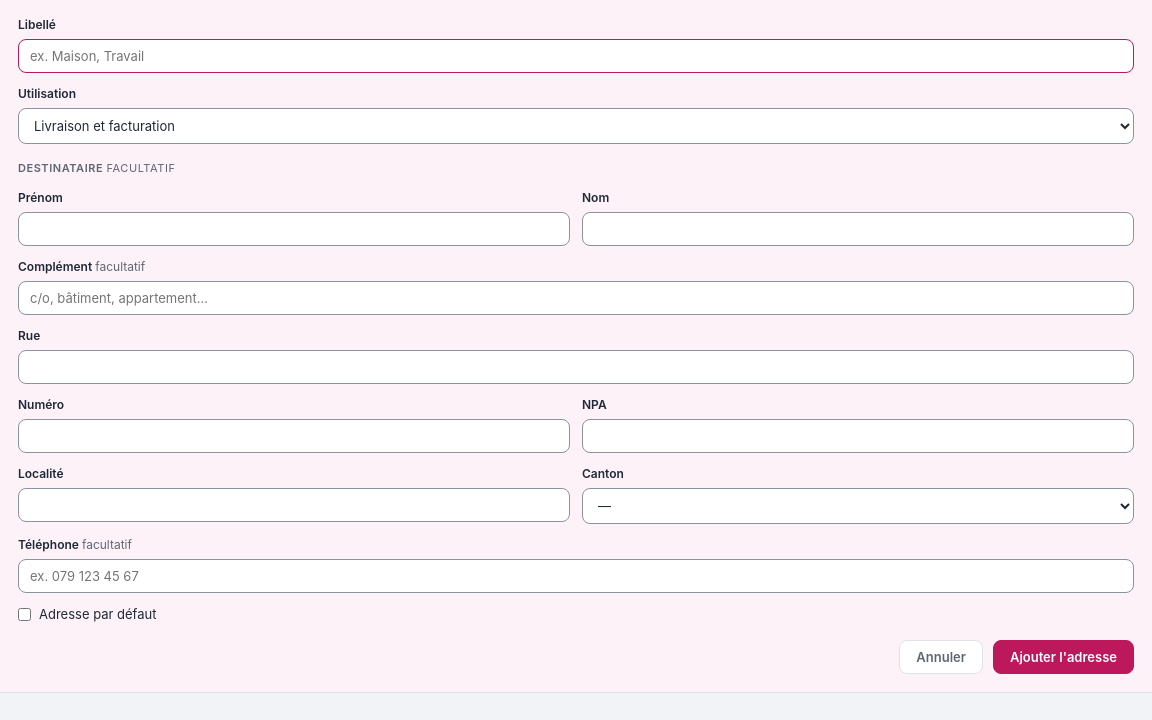
it: CustomerAddressForm › refuse un NPA qui n'a pas 4 chiffres, sans appel au serveur
The image size is (1152, 720).
Type "Travail" into the field labelled "Libellé" at {"x": 576, "y": 56}, box left=18, top=39, right=1134, bottom=73
Type "Place de la Gare" into the field labelled "Rue" at {"x": 576, "y": 366}, box left=18, top=350, right=1134, bottom=384
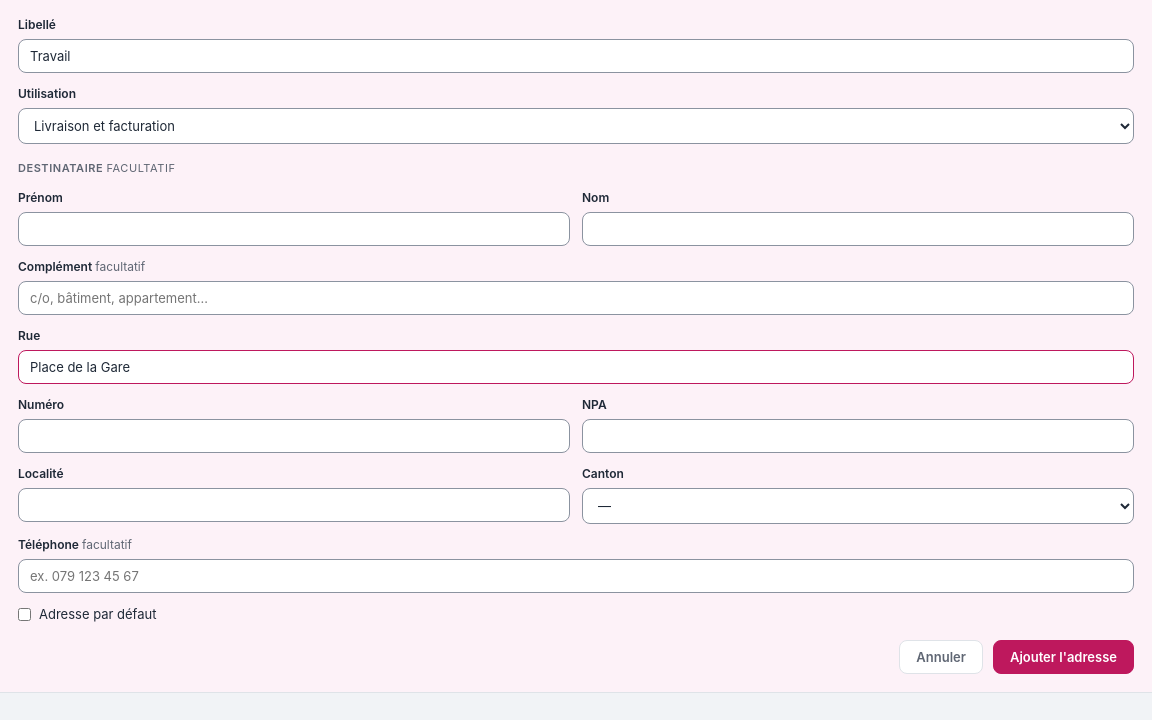
Type "1" into the field labelled "Numéro" at {"x": 294, "y": 436}, box left=18, top=418, right=570, bottom=452
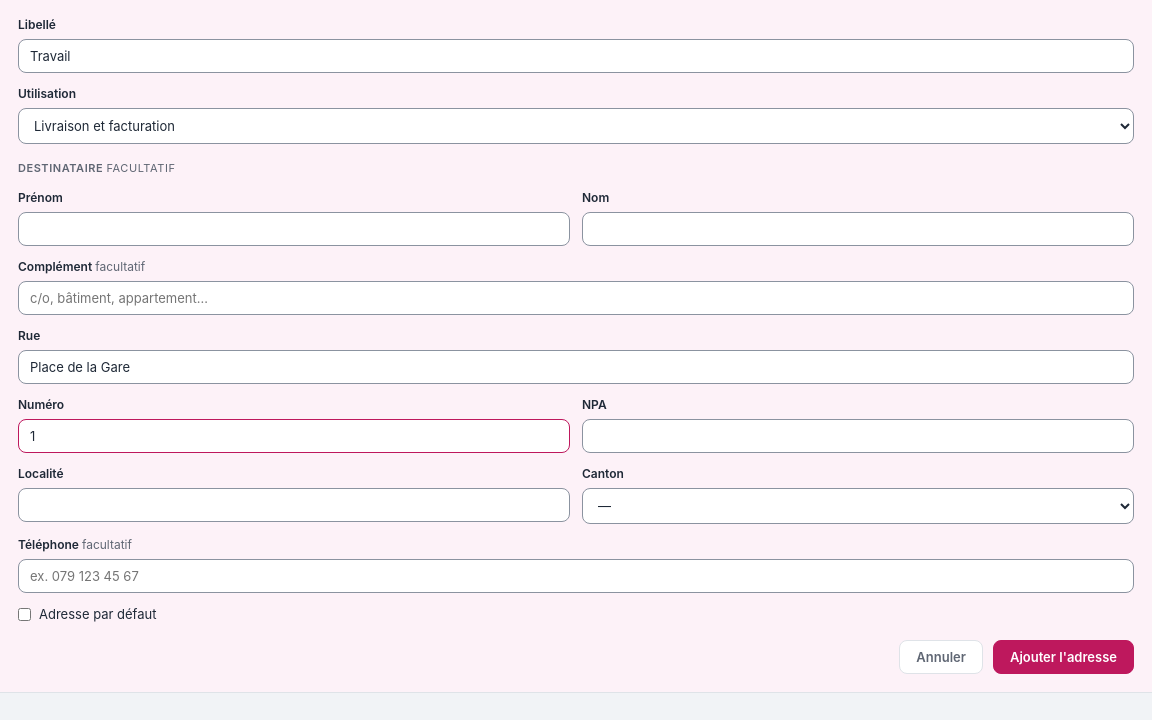
Type "1003" into the field labelled "NPA" at {"x": 858, "y": 436}, box left=582, top=418, right=1134, bottom=452
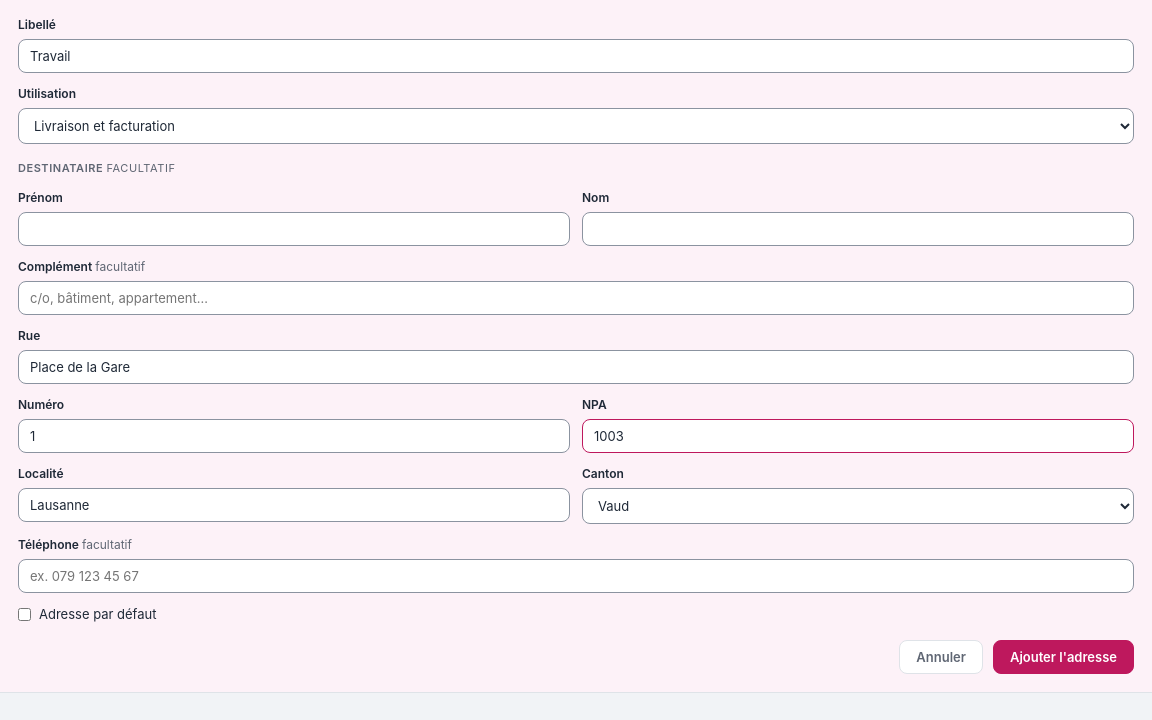
Result: the field labelled "Localité" holds "Lausanne" at left=18, top=488, right=570, bottom=522
Select "Vaud" in the dropdown labelled "Canton" at {"x": 858, "y": 506}, box left=582, top=488, right=1134, bottom=524
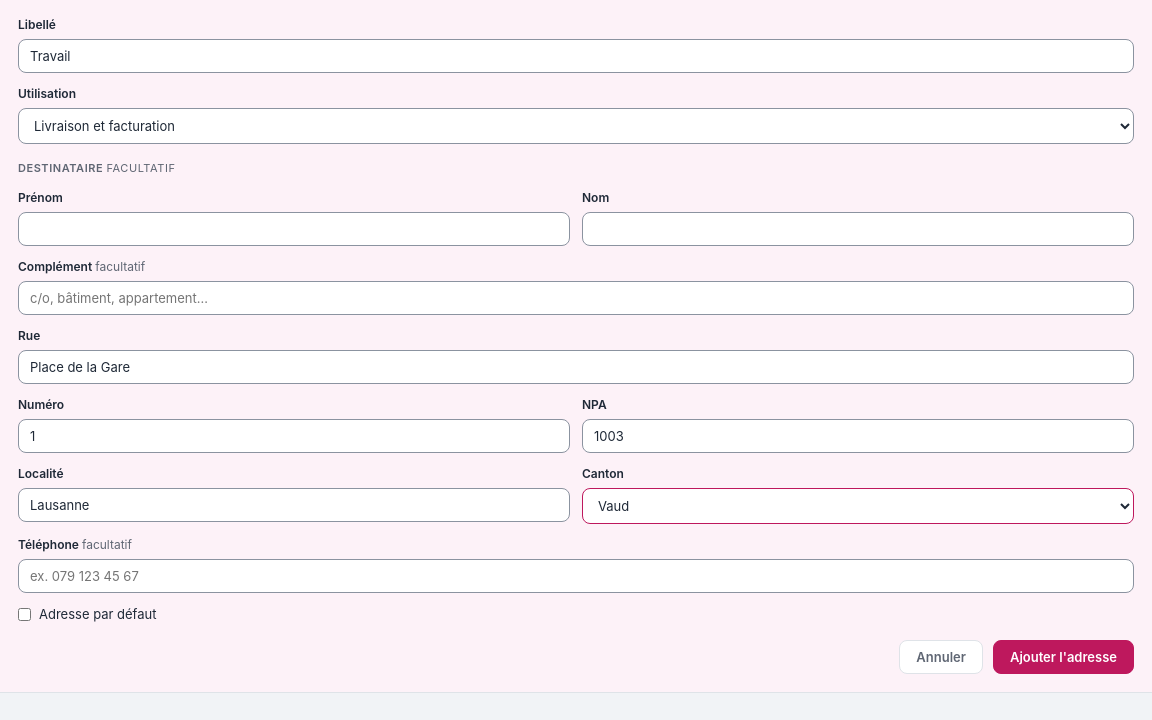
Replace the text in the field labelled "NPA" with "100" at {"x": 858, "y": 436}, box left=582, top=418, right=1134, bottom=452
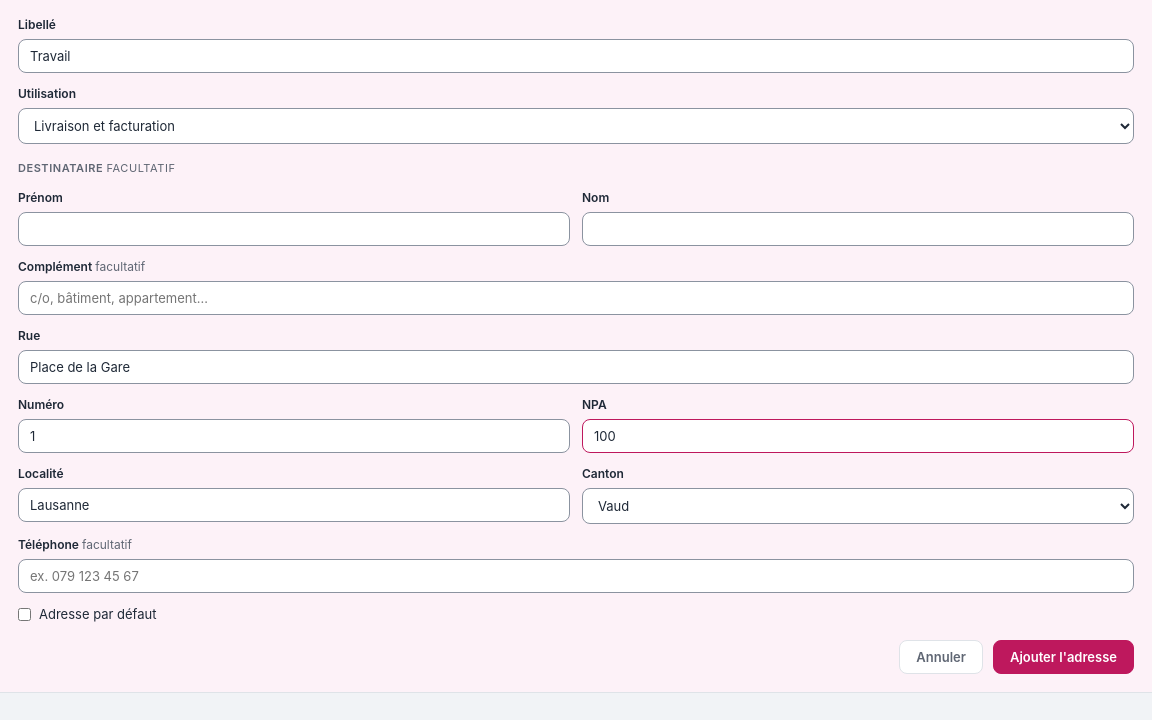
Click the button "Ajouter l'adresse" at {"x": 1063, "y": 657}, box left=993, top=640, right=1134, bottom=674
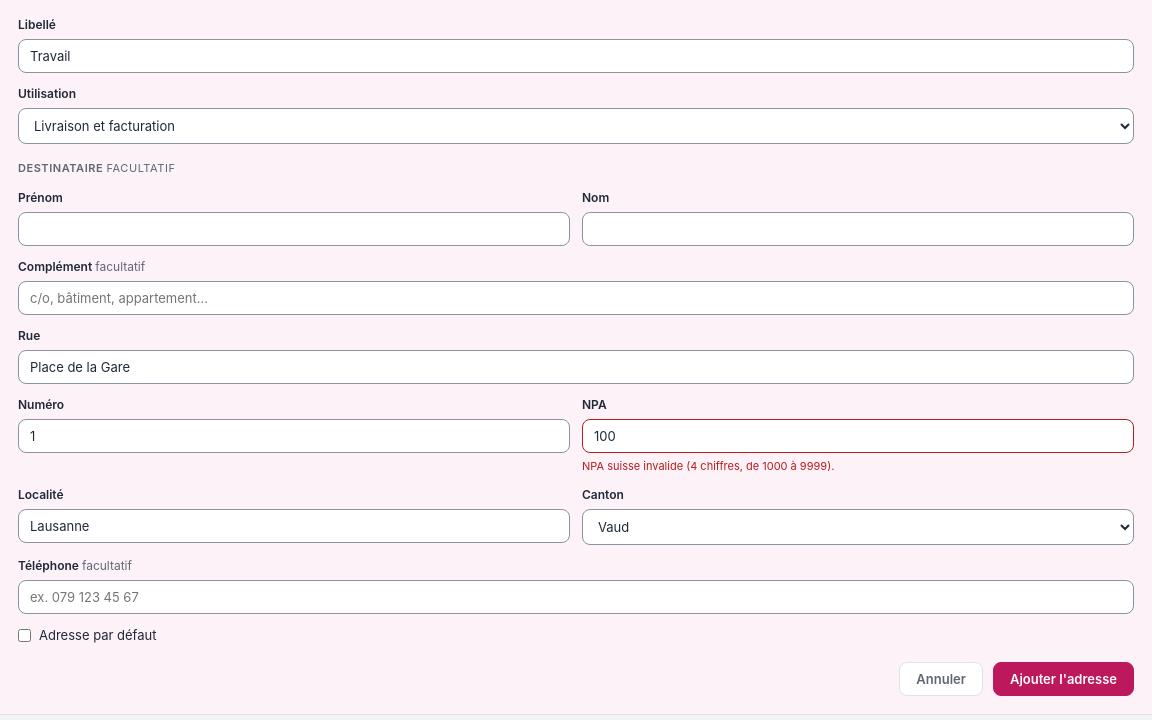
Result: the text "NPA suisse invalide (4 chiffres, de 1000 à 9999)." is shown at left=582, top=458, right=834, bottom=472
